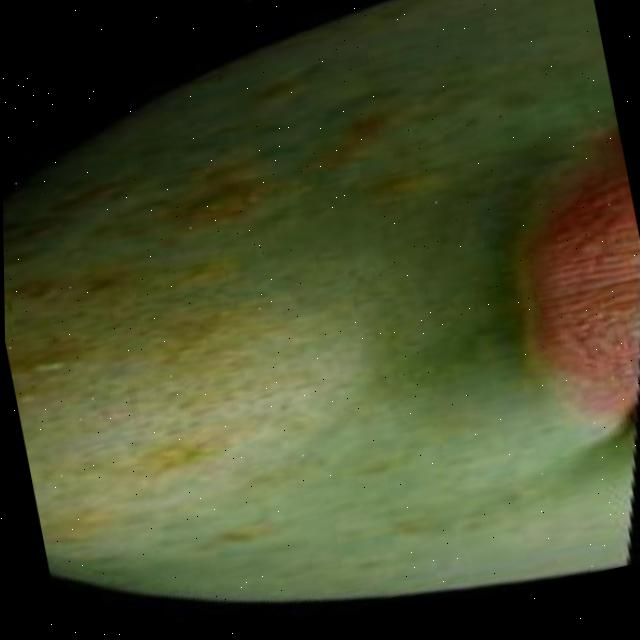Acne: (1, 65, 485, 624)
